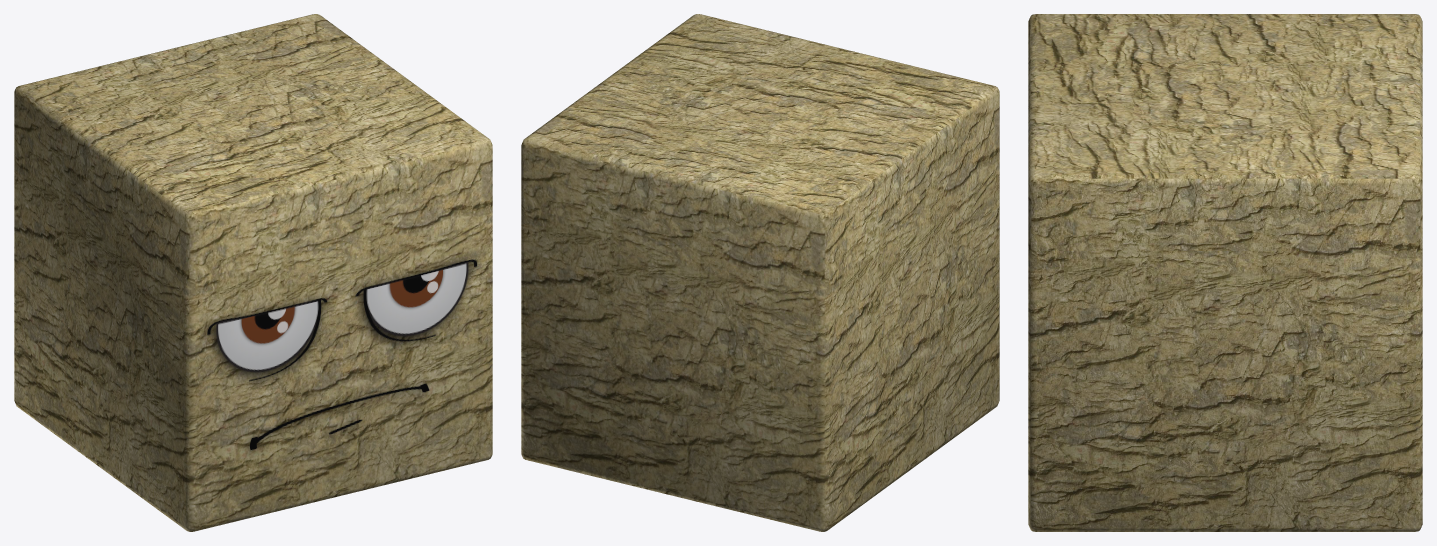
The model's file is Rock.FBX.
The picture shows the model from 3 angles, left to right: view 1: azimuth 30°, elevation 25°; view 2: azimuth 150°, elevation 25°; view 3: azimuth 270°, elevation 25°; orthographic projection. The views are drawn at different scales.
Visible parts, largest first — view 1: Rock; view 2: Rock; view 3: Rock.
Part boxes in pixels (bbox=[...]): Rock: bbox=[14, 14, 492, 531]; Rock: bbox=[521, 14, 999, 531]; Rock: bbox=[1028, 14, 1422, 531].
Bounding box in the file's own units: 100 × 100 × 100.
Materials: 2 (2 with a texture image).
